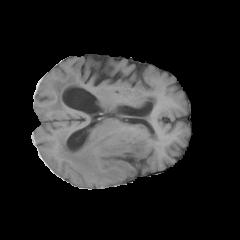glioma: (55, 122, 159, 181)
